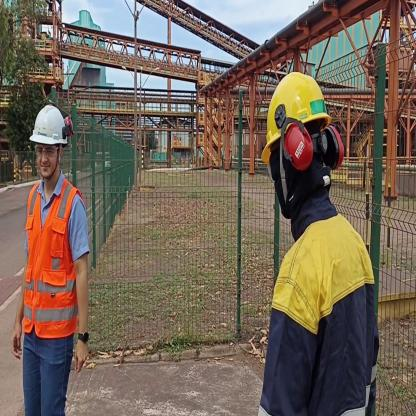Balaclava: (272, 140, 330, 218)
C_eletrica: (251, 215, 386, 416)
Capacete: (257, 70, 333, 140), (31, 101, 70, 145)
colete: (21, 179, 81, 338)
